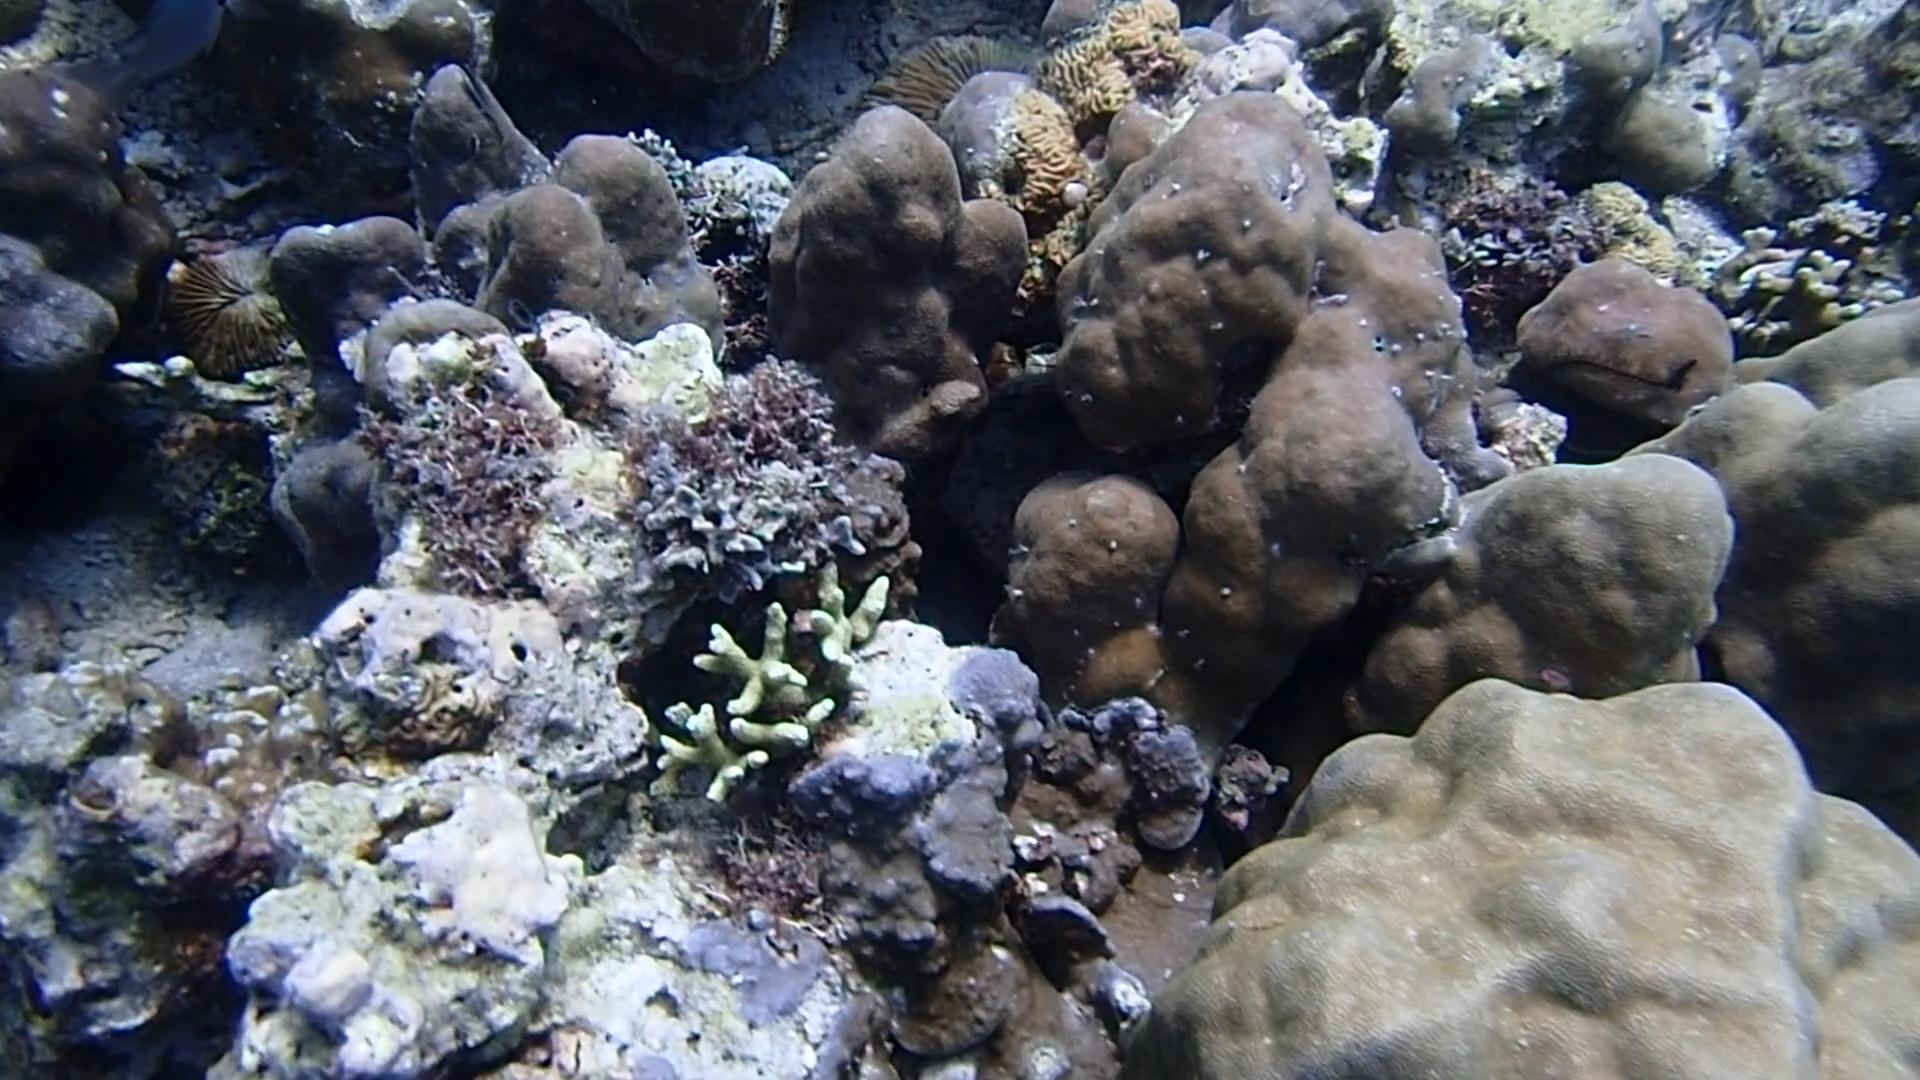Blue Fish Two: (69, 0, 223, 119)
